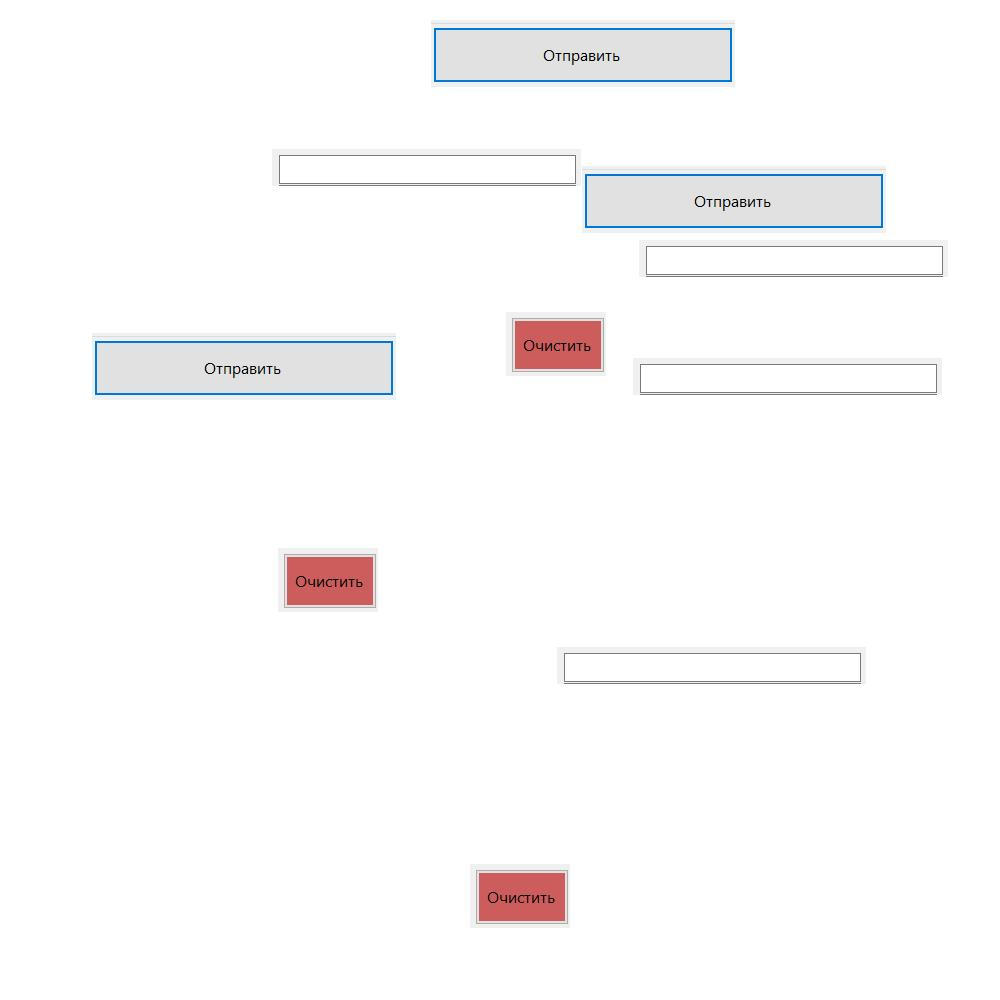Button: (92, 333, 396, 400), (431, 20, 735, 87), (582, 166, 886, 233), (506, 312, 606, 376), (278, 548, 378, 612), (470, 864, 570, 928)
EditText-: (639, 240, 948, 277), (557, 647, 866, 684), (633, 358, 942, 395), (272, 149, 581, 186)
